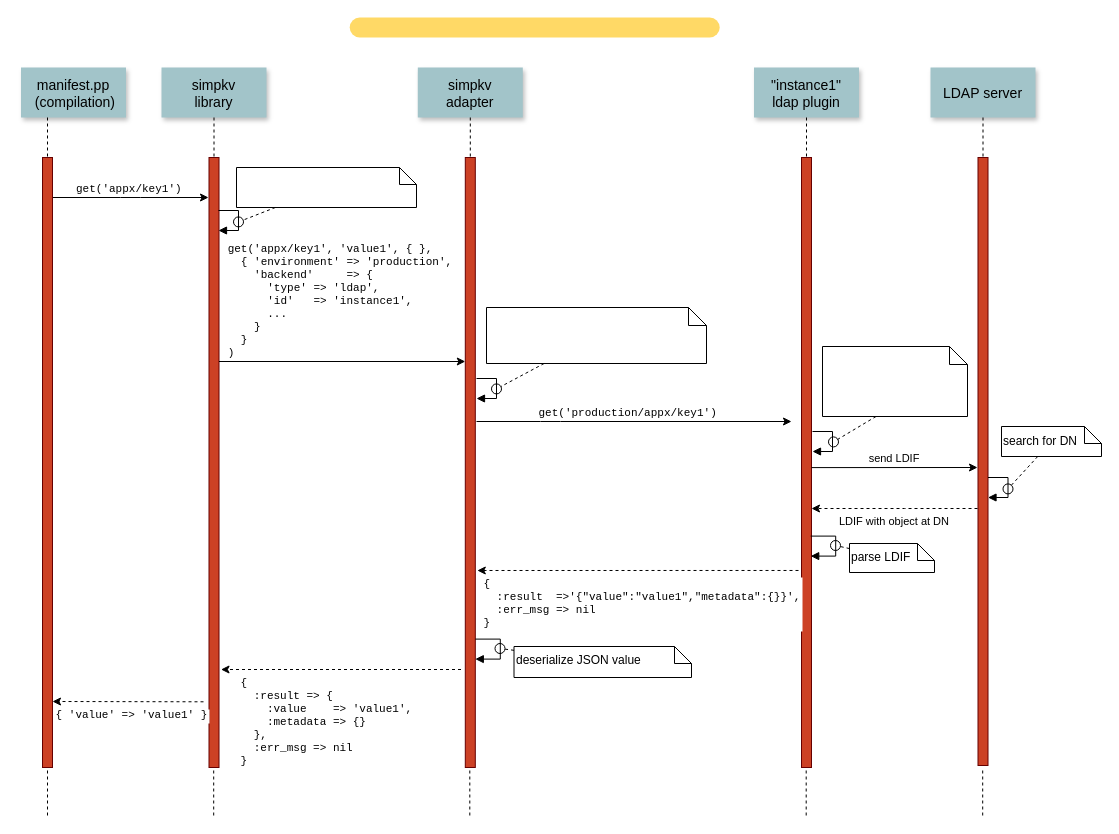
Image size: 1119x834. Some labels were removed from this diagram. Here are the shapes that lost their labels. From the top down, the centre of each, then its label:
At pixel 534 27: "simpkv Retrieve Operation for Non-global Key".
At pixel 326 187: "lookup backend options and Puppet env".
At pixel 596 335: "- lookup plugin instance - prepend key path with Puppet env".
At pixel 895 381: "- map key path to DN - create LDIF to search for DN".
